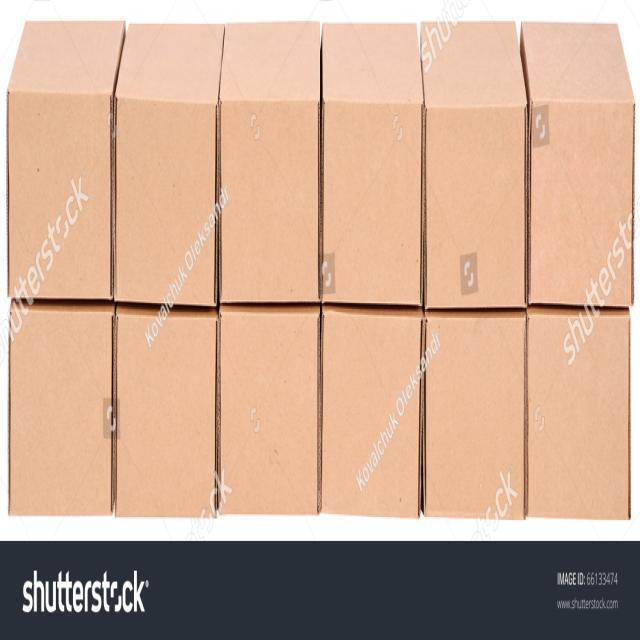BoxFace: (8, 90, 112, 302), (116, 92, 217, 309), (528, 98, 632, 308), (114, 305, 214, 516), (10, 304, 110, 514), (425, 102, 526, 309), (528, 314, 630, 518), (322, 307, 421, 517), (322, 100, 422, 304), (424, 316, 524, 520), (219, 309, 319, 512), (220, 102, 320, 302)
